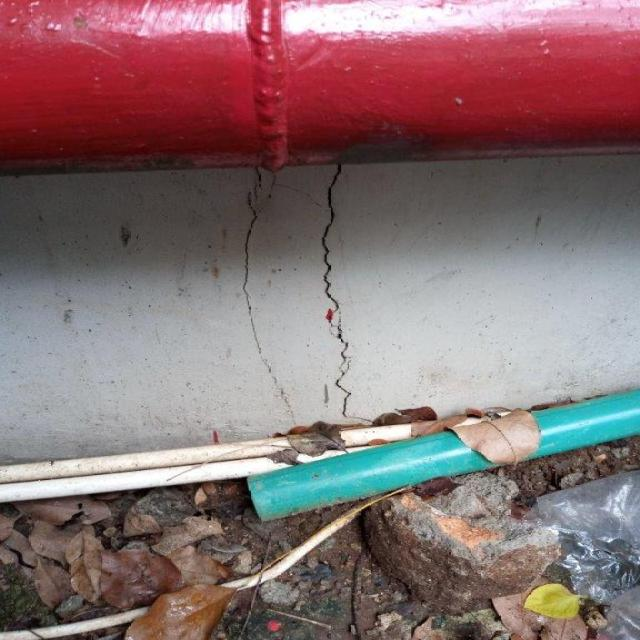Crack: (314, 178, 356, 412)
